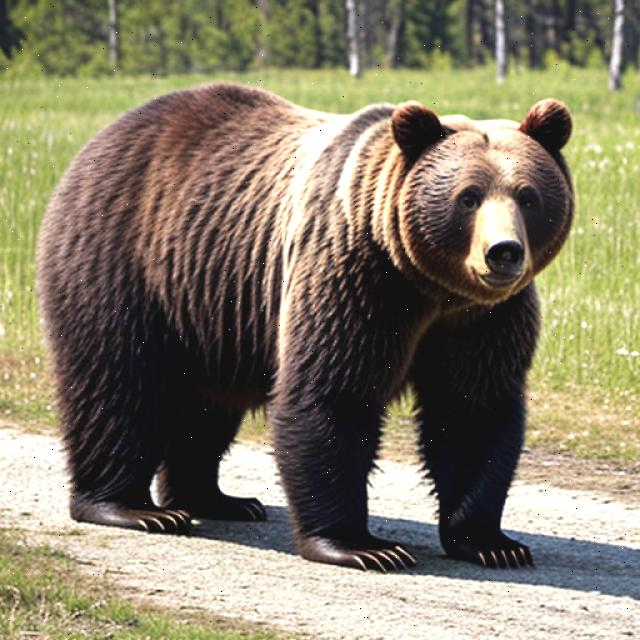bear: (352, 83, 582, 314)
